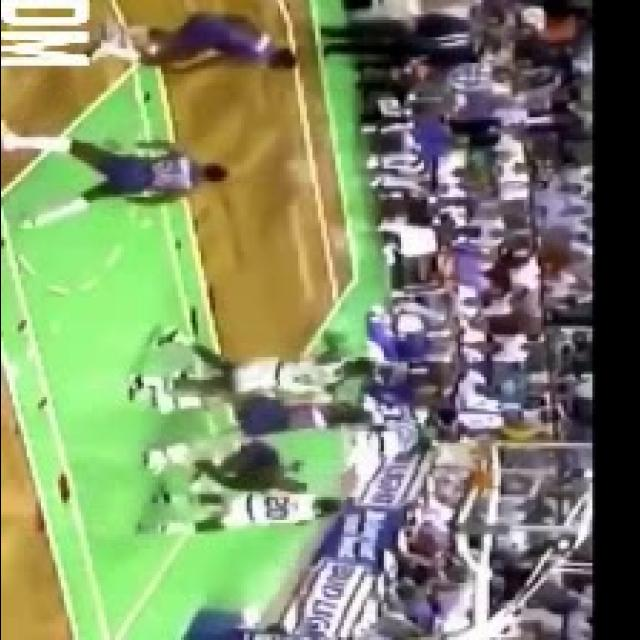Violence: (118, 324, 386, 470)
